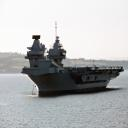Portanaves: (20, 22, 127, 99)
